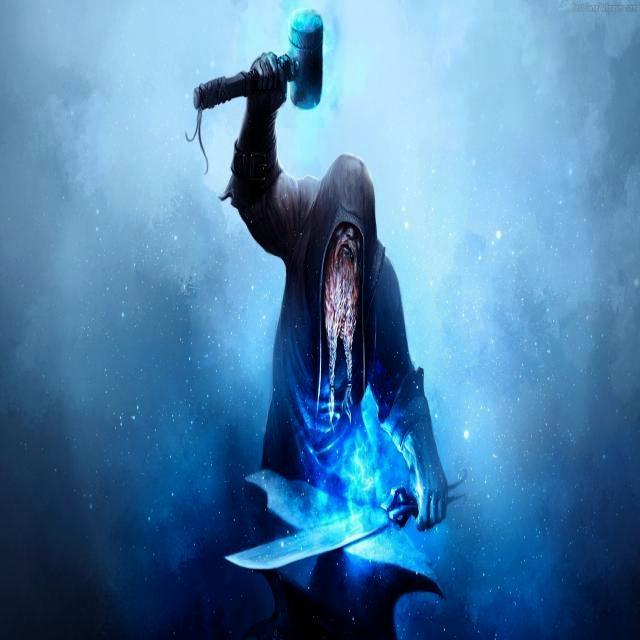hammer: (188, 4, 330, 133)
